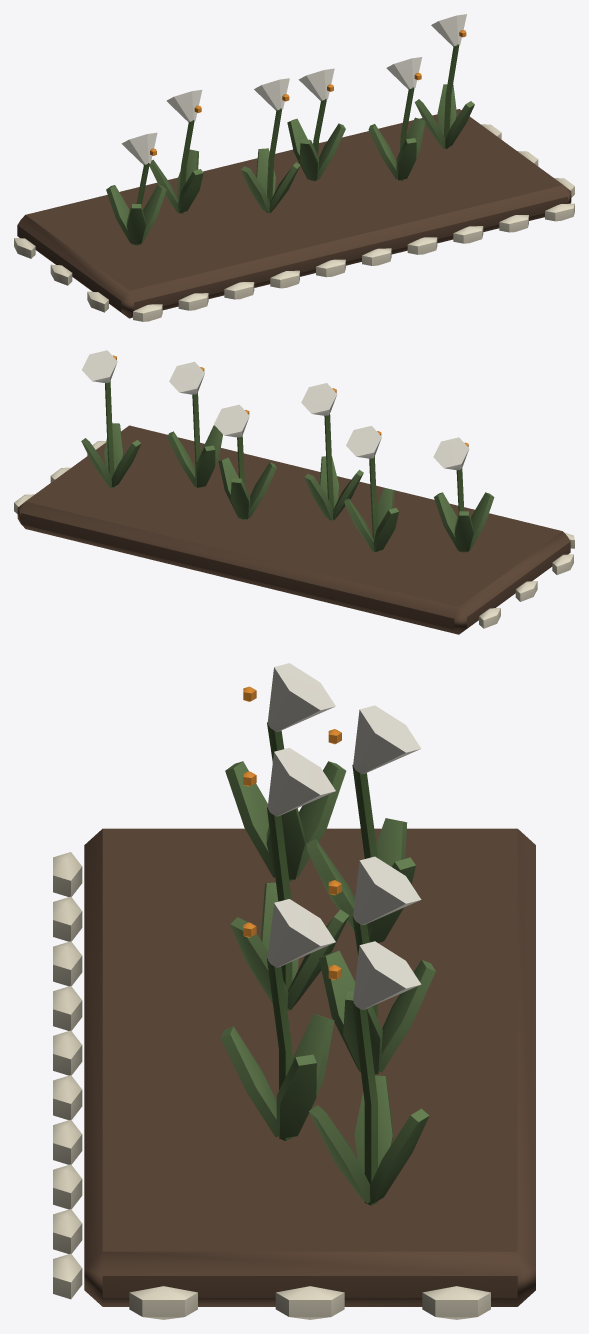
The model's file is flowerbed_lily.glb.
3 views of the same model, one above another, from view 1: azimuth 30°, elevation 25°; view 2: azimuth 150°, elevation 25°; view 3: azimuth 270°, elevation 25° (orthographic). The views are drawn at different scales.
Parts seen in each view (by area): view 1: flowerbed_lily; view 2: flowerbed_lily; view 3: flowerbed_lily.
Boxes of the visible parts, x1=… form: flowerbed_lily: x1=14, y1=14, x2=574, y2=321; flowerbed_lily: x1=14, y1=350, x2=574, y2=634; flowerbed_lily: x1=53, y1=663, x2=535, y2=1319.
Bounding box in the file's own units: 1.81 × 0.5793 × 0.7914.
